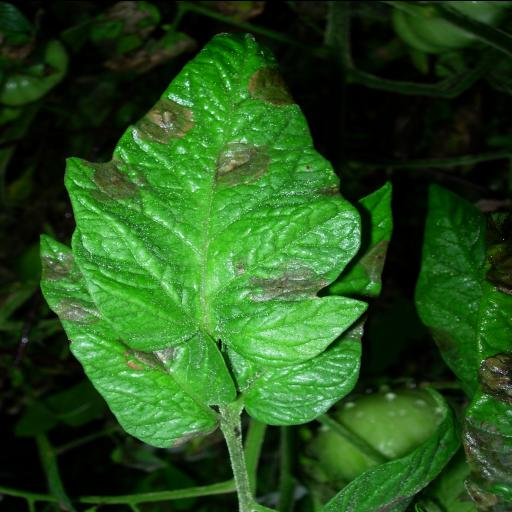disease_tomato: (62, 28, 366, 362), (38, 236, 236, 450)
